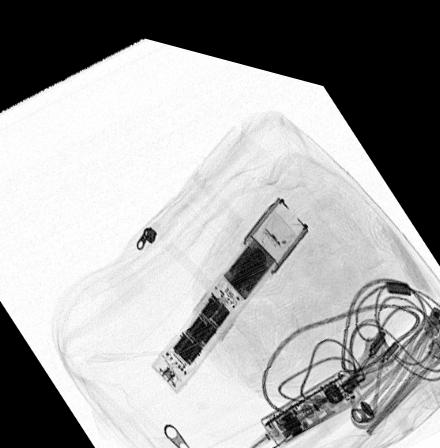Baton: (149, 176, 313, 387)
